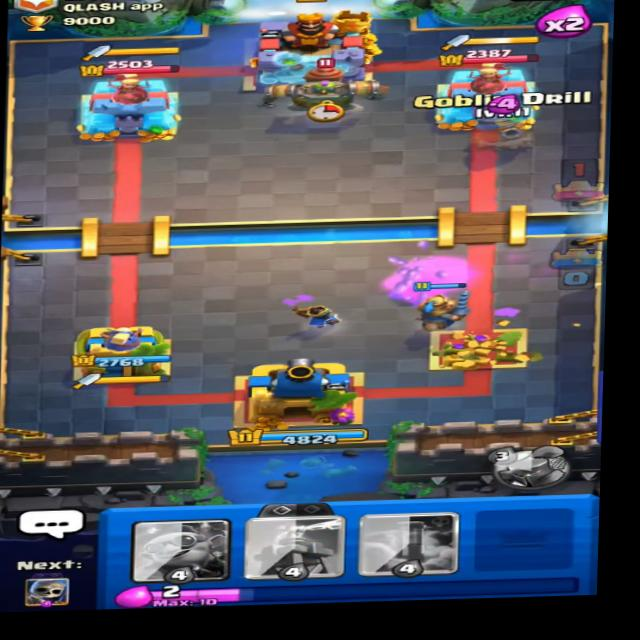Goblinmachine: (254, 55, 397, 122)
